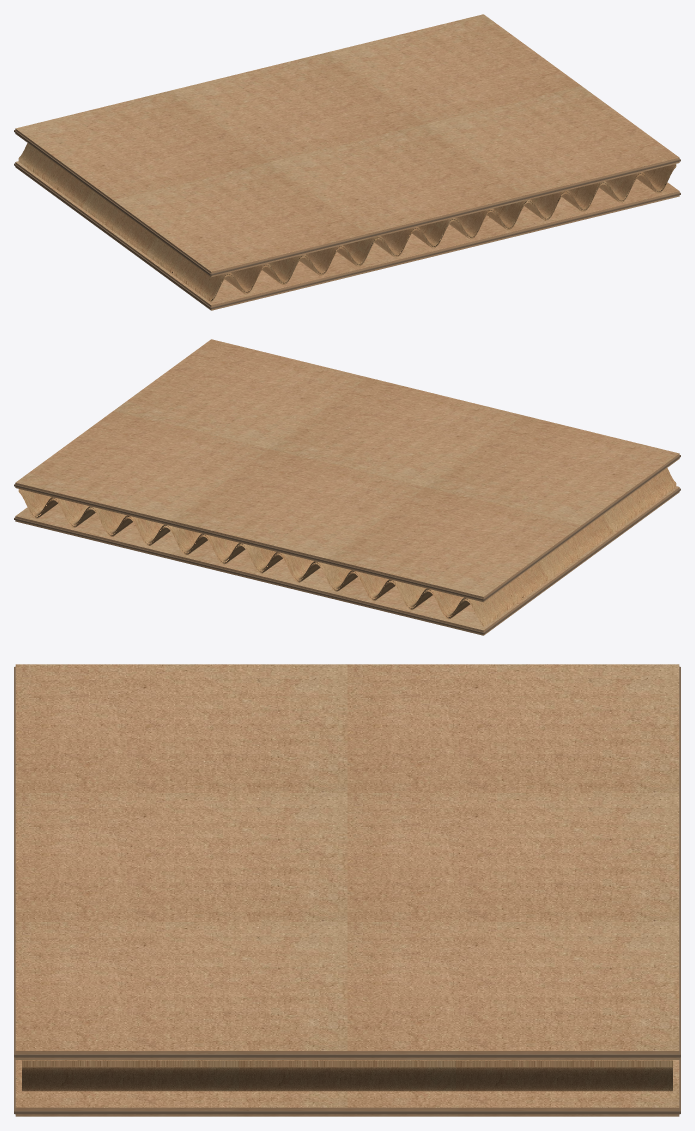
File: corrugated_cardboard.glb
3 views of the same model, one above another, from view 1: azimuth 30°, elevation 25°; view 2: azimuth 150°, elevation 25°; view 3: azimuth 270°, elevation 25° (orthographic). The views are drawn at different scales.
Parts seen in each view (by area): view 1: MESH_Top_Liner, MESH_Corrugated_Flute, MESH_Bottom_Liner, MESH_Edge_Front (×2), MESH_Edge_Left (×2); view 2: MESH_Top_Liner, MESH_Corrugated_Flute, MESH_Bottom_Liner, MESH_Edge_Back (×2), MESH_Edge_Left (×2); view 3: MESH_Top_Liner, MESH_Corrugated_Flute, MESH_Bottom_Liner, MESH_Edge_Right (×2), MESH_Edge_Front, MESH_Edge_Back.
Boxes of the visible parts, left/top/right/bottom form: MESH_Top_Liner: left=15, top=14, right=679, bottom=277; MESH_Corrugated_Flute: left=18, top=143, right=676, bottom=302; MESH_Bottom_Liner: left=15, top=161, right=679, bottom=310; MESH_Edge_Front (×2): left=211, top=160, right=680, bottom=309; MESH_Edge_Left (×2): left=14, top=130, right=210, bottom=309; MESH_Top_Liner: left=15, top=339, right=679, bottom=602; MESH_Corrugated_Flute: left=18, top=468, right=676, bottom=627; MESH_Bottom_Liner: left=15, top=486, right=679, bottom=635; MESH_Edge_Back (×2): left=14, top=485, right=483, bottom=634; MESH_Edge_Left (×2): left=484, top=455, right=680, bottom=634; MESH_Top_Liner: left=15, top=664, right=679, bottom=1059; MESH_Corrugated_Flute: left=22, top=1060, right=672, bottom=1091; MESH_Bottom_Liner: left=15, top=1060, right=679, bottom=1116; MESH_Edge_Right (×2): left=14, top=1054, right=680, bottom=1114; MESH_Edge_Front: left=14, top=667, right=15, bottom=1057; MESH_Edge_Back: left=679, top=667, right=680, bottom=1057.
Bounding box in the file's own units: 6.02 × 0.475 × 4.37.
3 materials, 2 textured.
